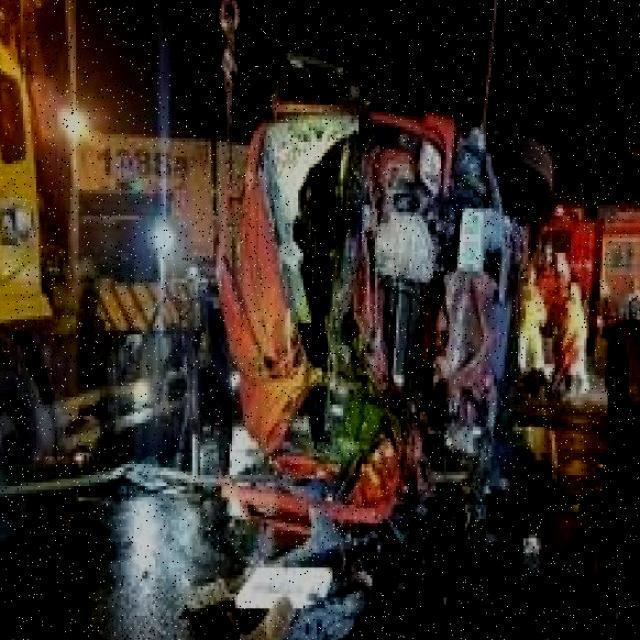accident: (196, 70, 564, 602)
